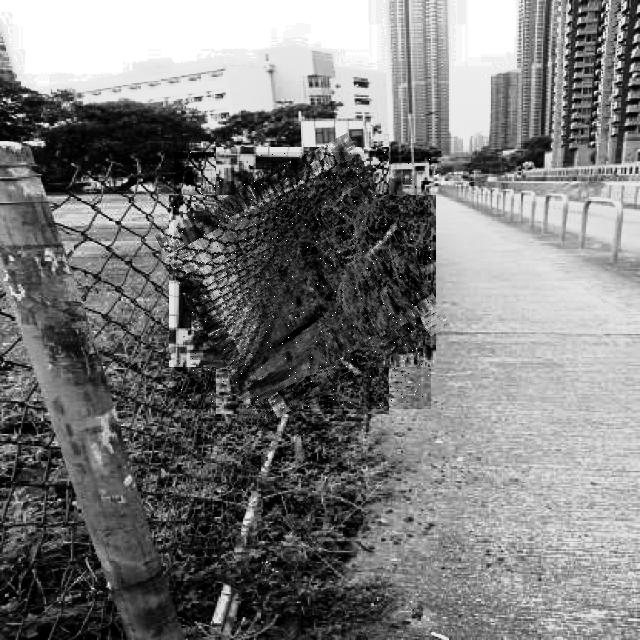anomaly-fence: (174, 152, 431, 409)
